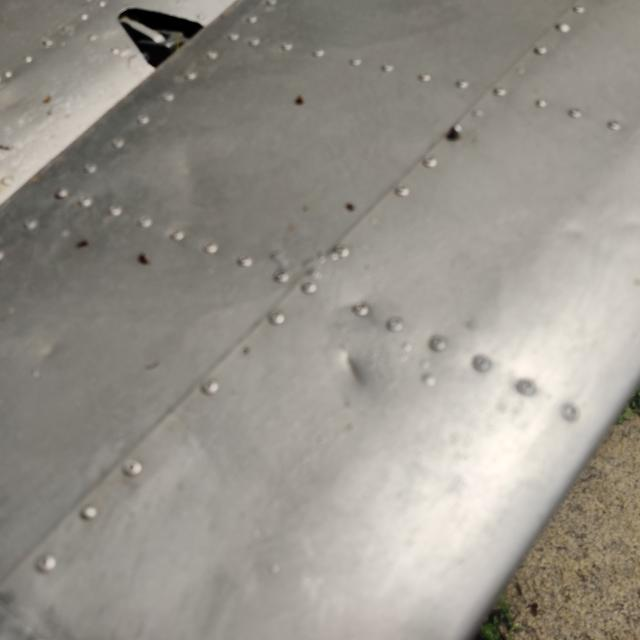dent: (312, 320, 406, 420)
